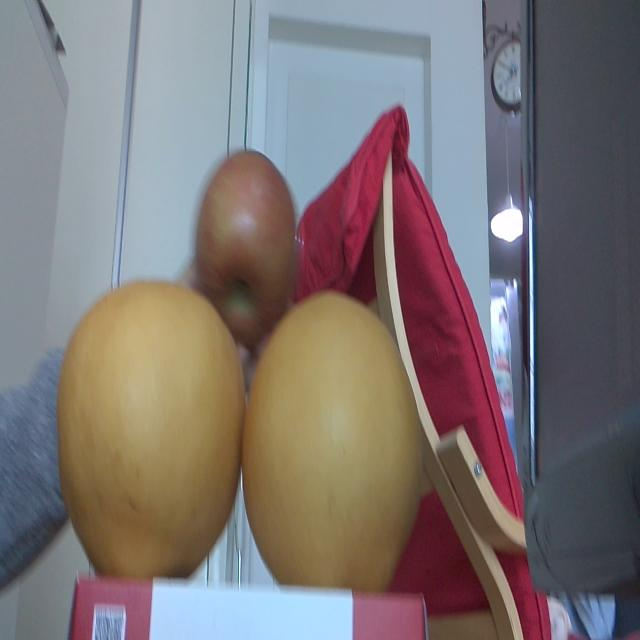apple: (193, 146, 299, 340)
pear: (56, 279, 243, 579), (243, 294, 427, 598)
